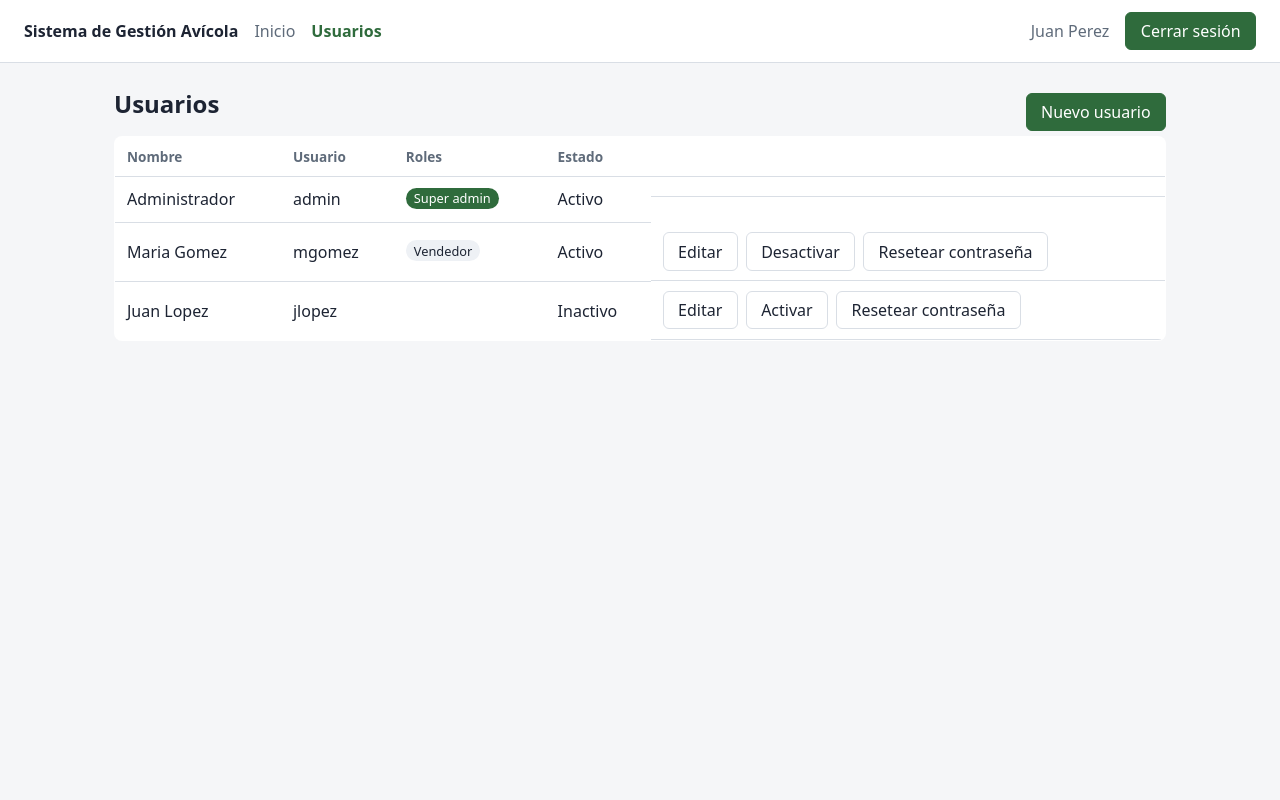
Scenario: UsersPage › creates a user with the selected roles
Click the button "Nuevo usuario".
click(1096, 112)  # box x1=1026 y1=93 x2=1166 y2=131
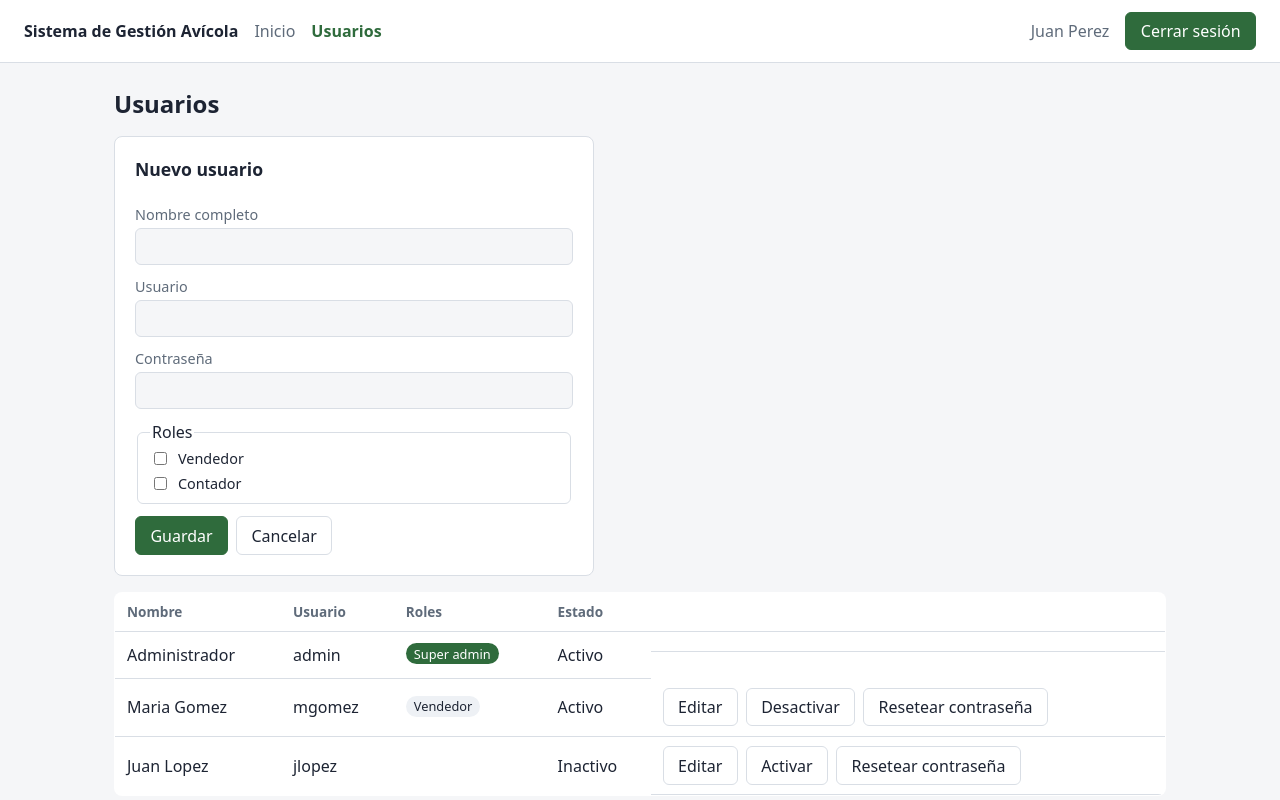
Type "Nuevo Usuario" into the field labelled "Nombre completo".
click(354, 247); type("Nuevo Usuario")  # box x1=135 y1=228 x2=573 y2=265
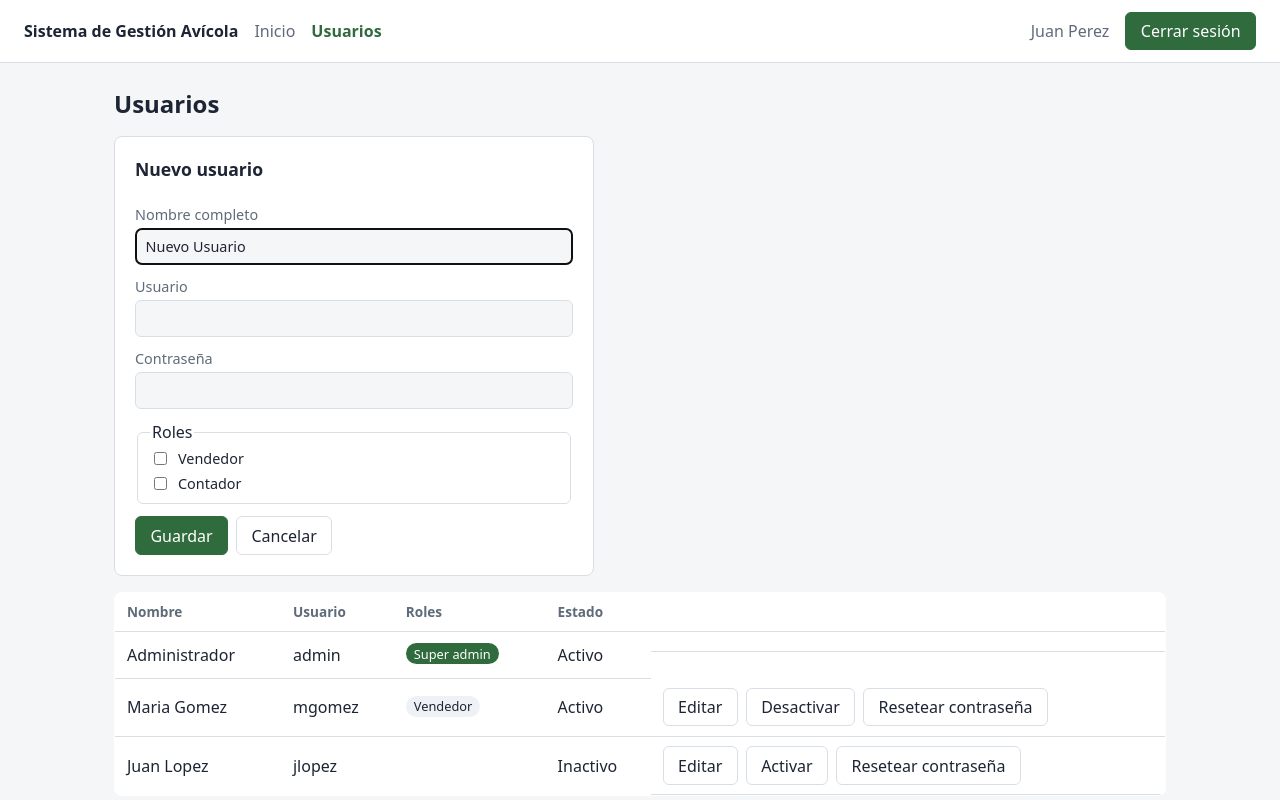
Type "nuevo" into the field labelled "Usuario".
click(354, 319); type("nuevo")  # box x1=135 y1=300 x2=573 y2=337
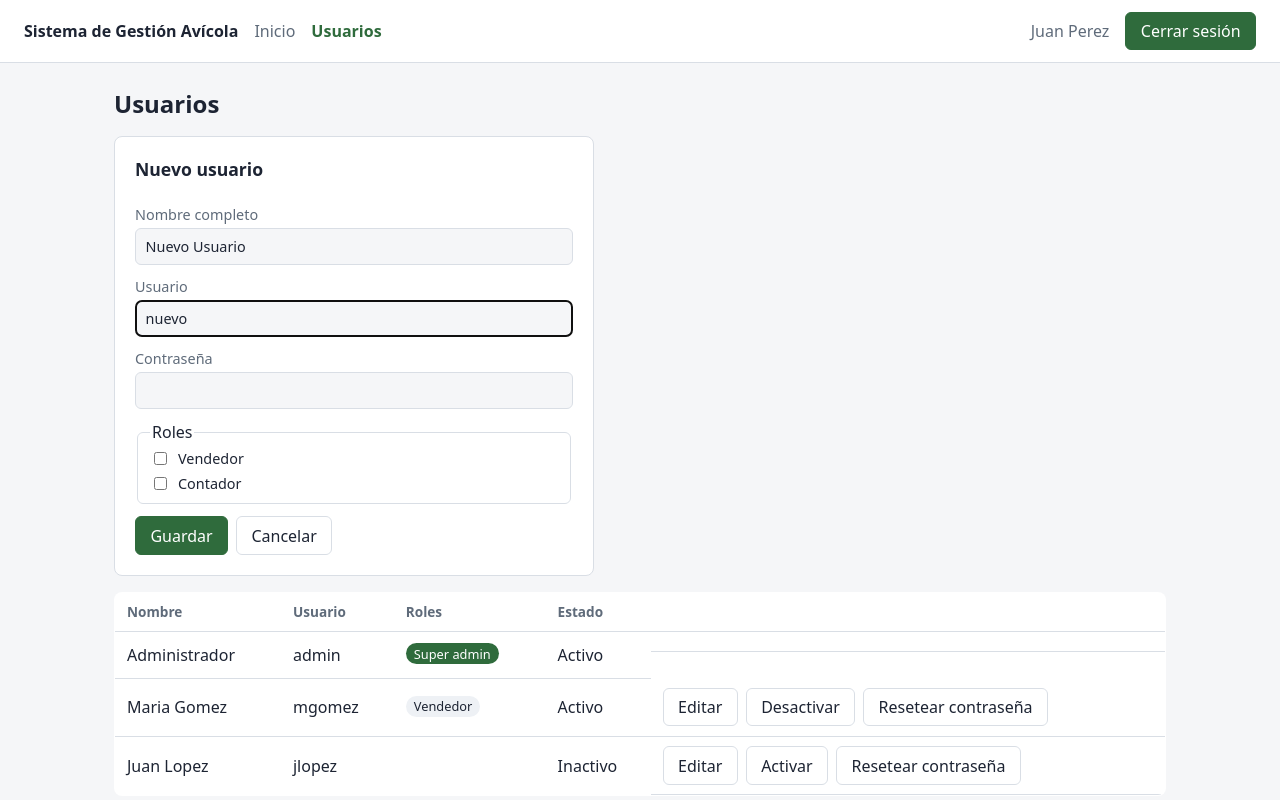
Type "secret123" into the password field labelled "Contraseña".
click(354, 391); type("secret123")  # box x1=135 y1=372 x2=573 y2=409
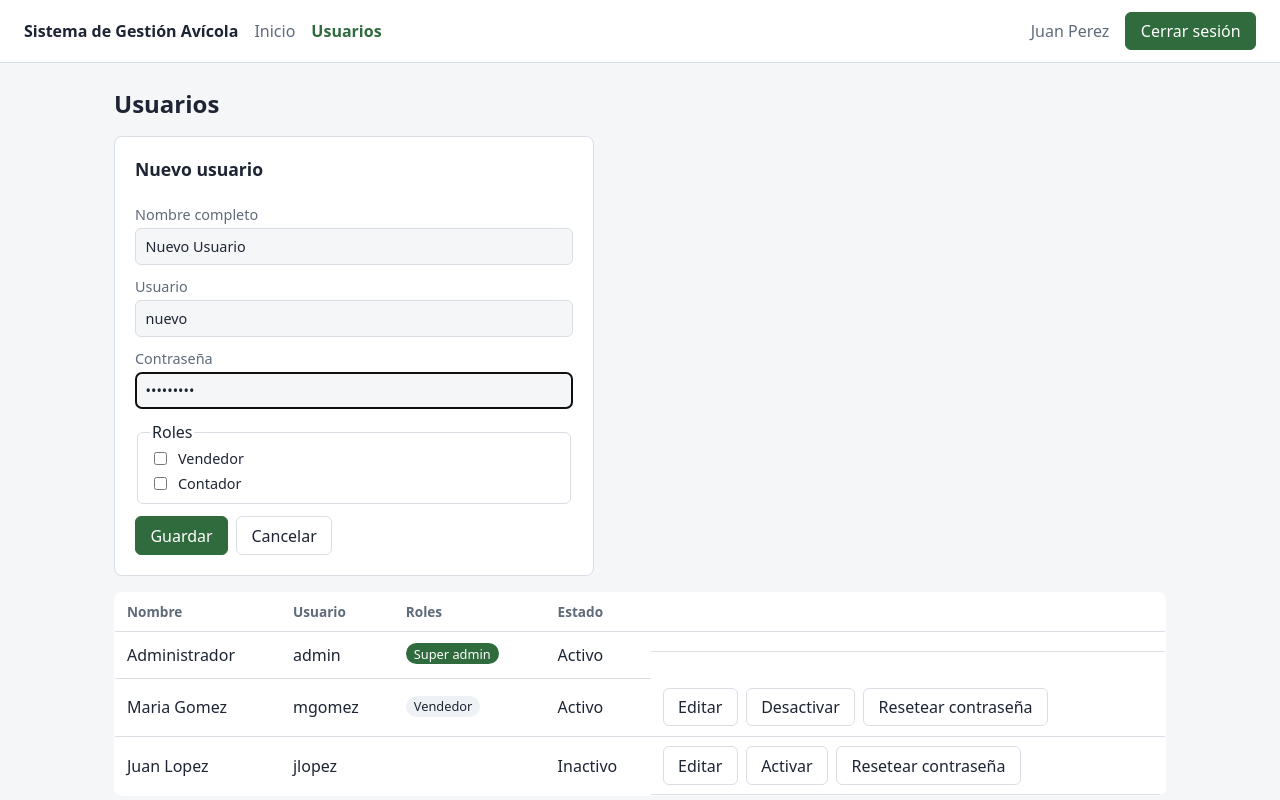
Click the checkbox labelled "Contador".
click(160, 484)  # box x1=154 y1=477 x2=167 y2=490
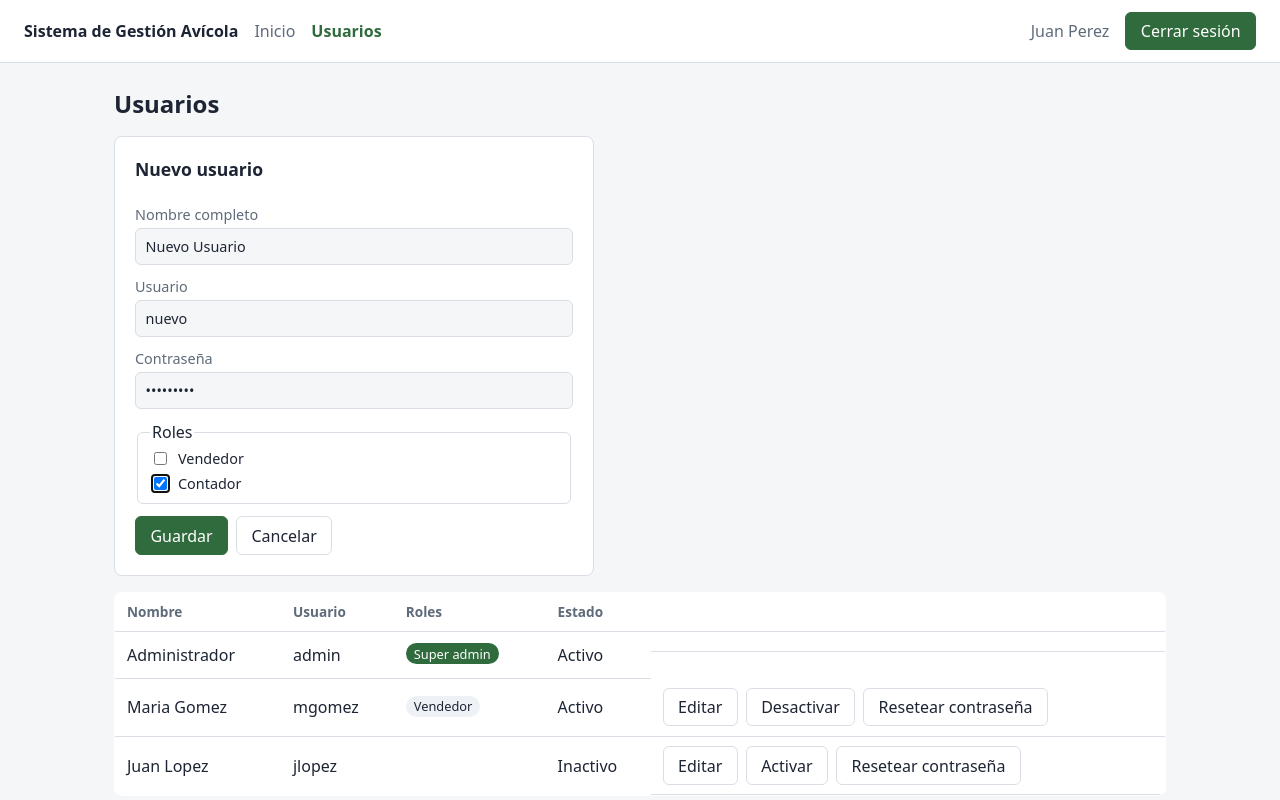
Click the button "Guardar".
click(182, 536)  # box x1=135 y1=516 x2=228 y2=555
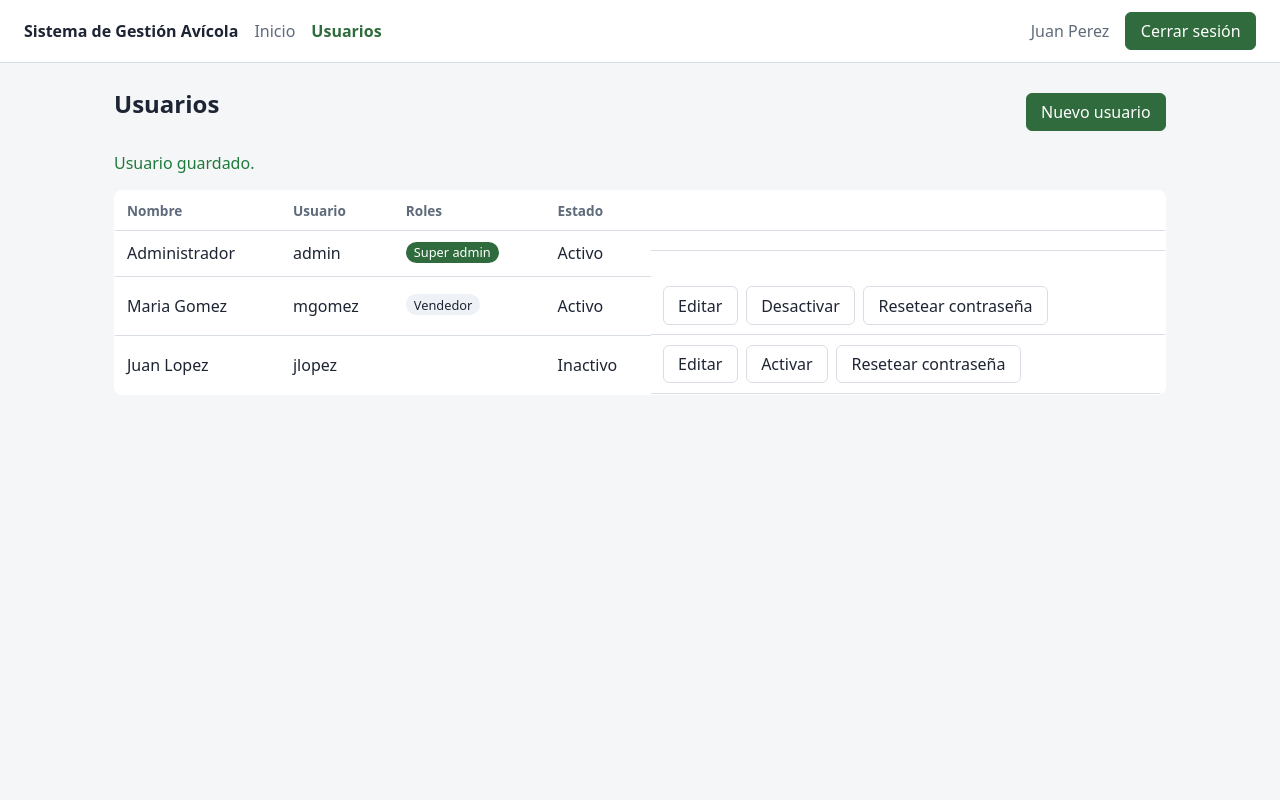
Result: the text "Usuario guardado." is shown at x1=114 y1=152 x2=254 y2=174
